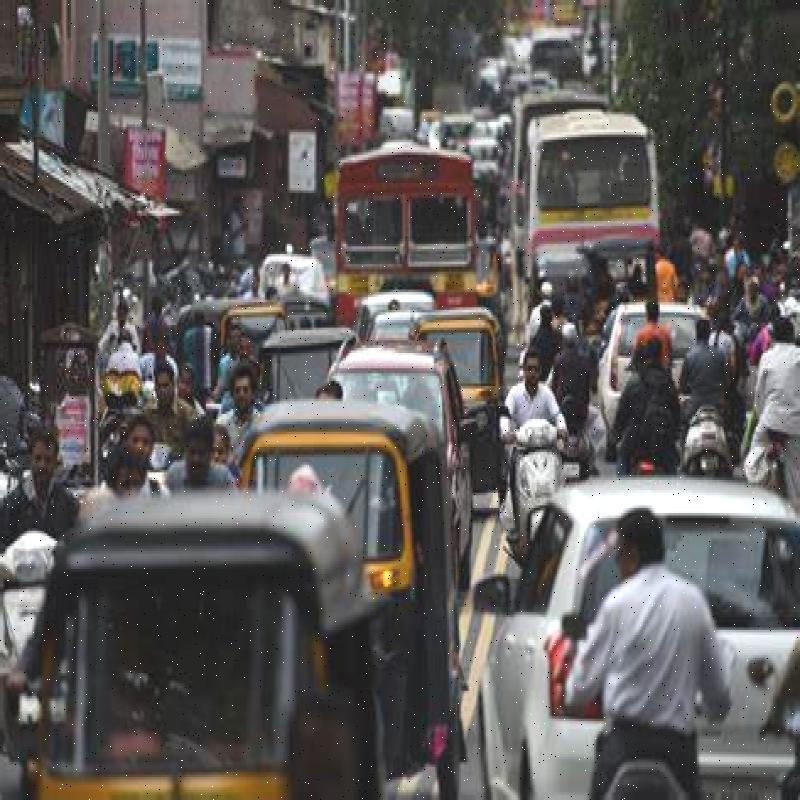auto: (0, 487, 372, 800), (239, 395, 446, 706), (450, 306, 502, 474)
bus: (520, 83, 670, 312)
car: (478, 481, 794, 800)
